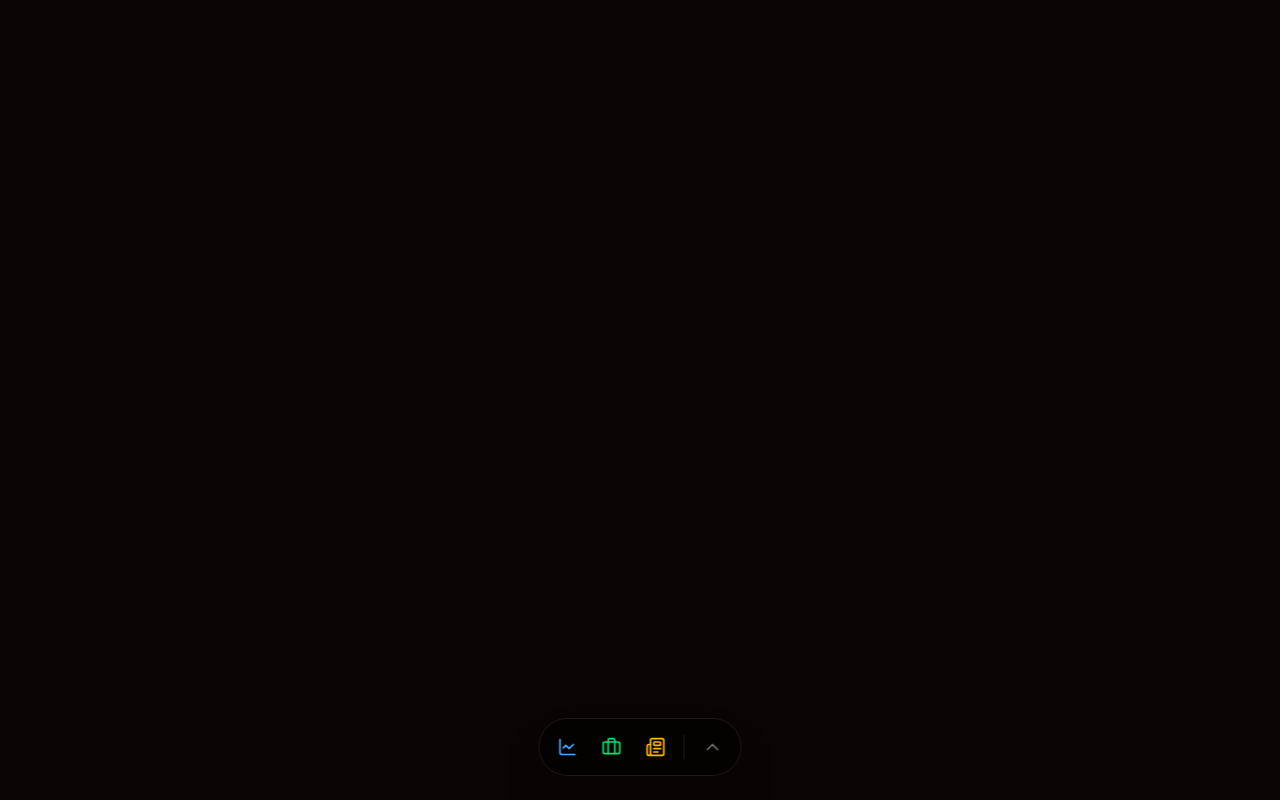
it: FloatingToolbar › Expanded State › should expand when expand button is clicked
This screenshot has width=1280, height=800.
Click the 4th button. click: (712, 747)
box: 692,727 -> 732,767
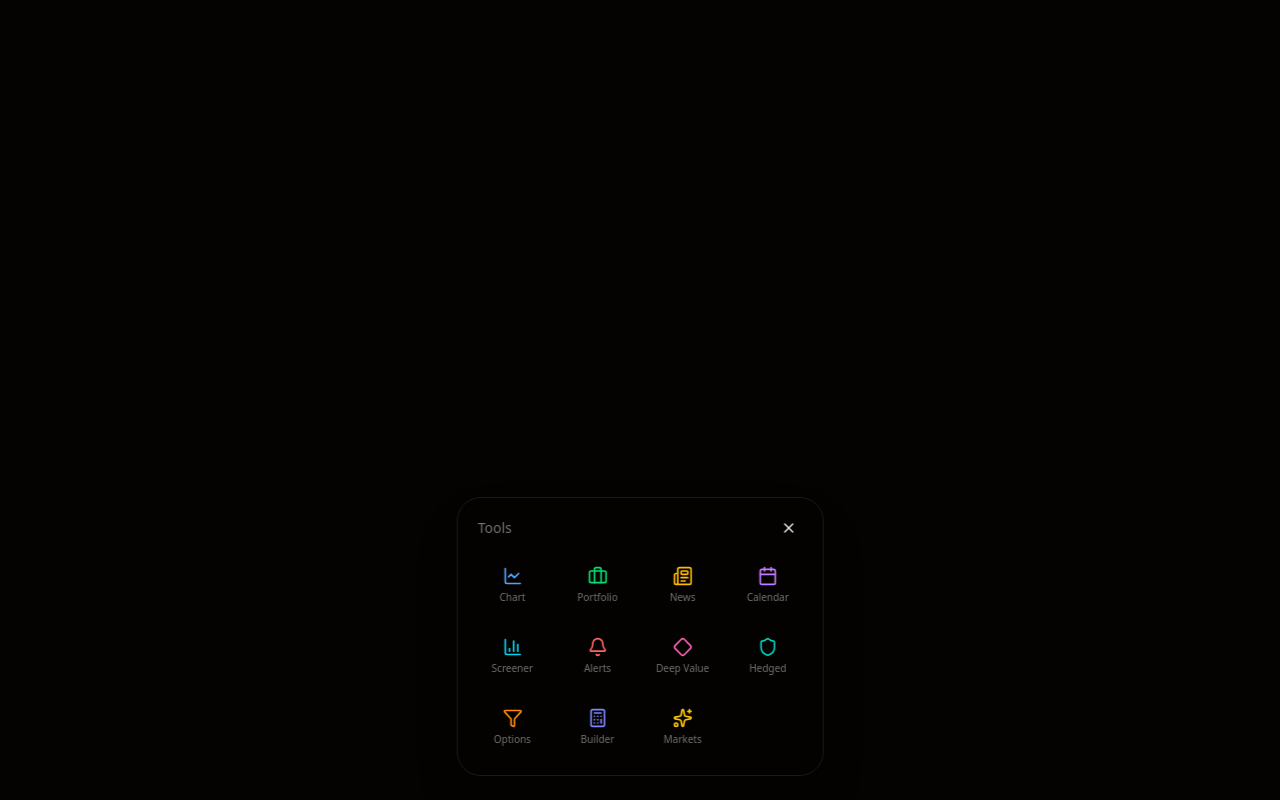
Check: the text "Screener" is shown, box 492,661 -> 533,676
Check: the text "Alerts" is shown, box 584,661 -> 611,676
